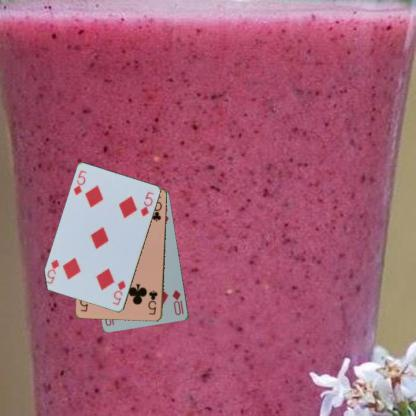10d: (170, 287, 185, 317)
5c: (145, 288, 159, 315)
5d: (71, 168, 88, 197), (110, 278, 127, 306)
